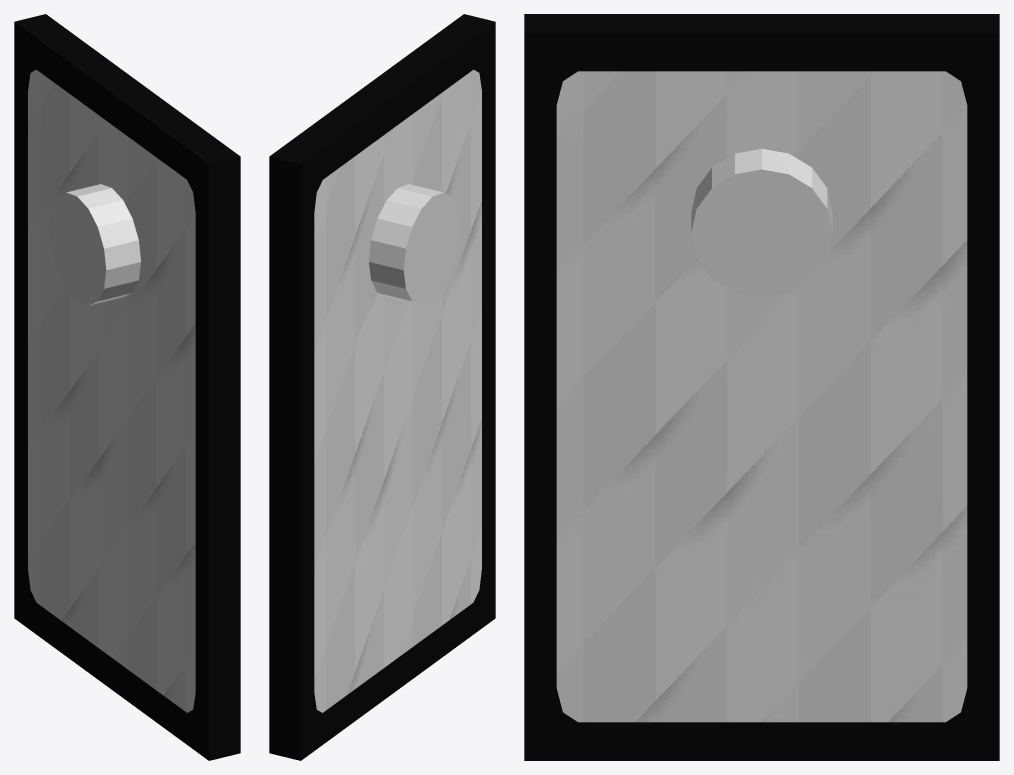
The model's file is Door2.fbx.
3 views of the same model, side by side, from view 1: azimuth 30°, elevation 25°; view 2: azimuth 150°, elevation 25°; view 3: azimuth 270°, elevation 25° (orthographic). The views are drawn at different scales.
Visible parts, largest first — view 1: Cube, Cube.003, Cylinder; view 2: Cube, Cube.003, Cylinder; view 3: Cube, Cube.003, Cylinder.
Part boxes in pixels (x1,y1,x2,y2): Cube: [28, 69, 195, 712]; Cube.003: [14, 14, 240, 760]; Cylinder: [48, 184, 140, 305]; Cube: [314, 69, 481, 712]; Cube.003: [269, 14, 495, 760]; Cylinder: [369, 184, 461, 305]; Cube: [556, 71, 967, 722]; Cube.003: [524, 14, 999, 760]; Cylinder: [691, 148, 832, 297].
Size of the model in its own units: 117 by 661 by 392.
